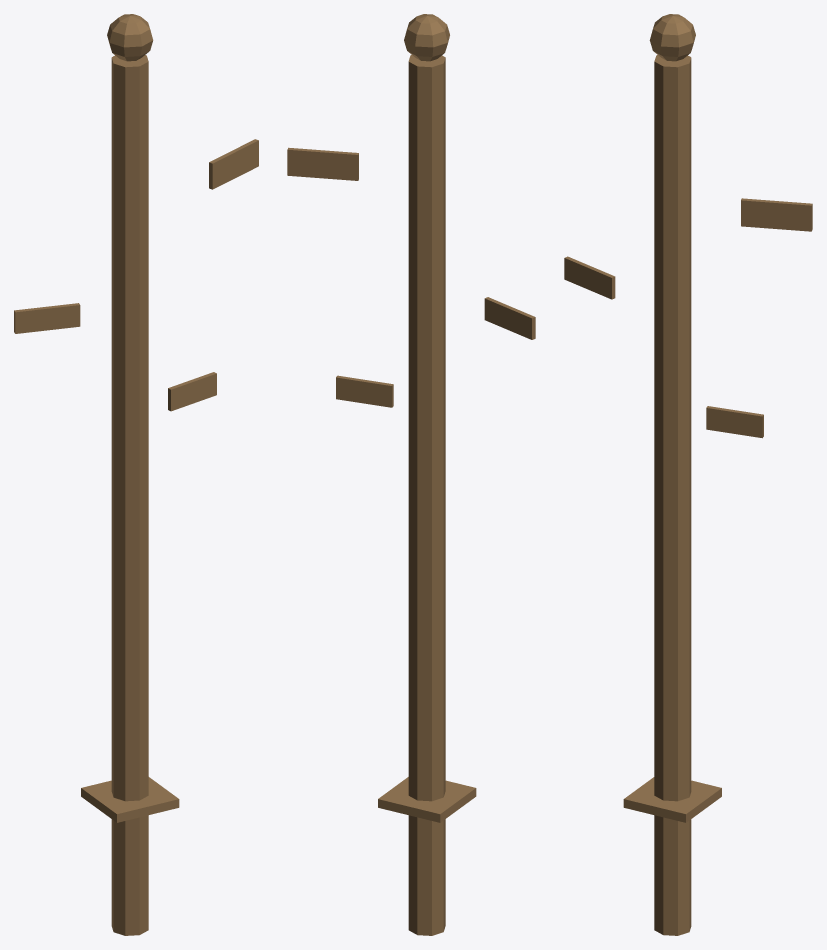
Rendered from sign_post.glb.
3 renders of one model, left to right at view 1: azimuth 30°, elevation 25°; view 2: azimuth 150°, elevation 25°; view 3: azimuth 330°, elevation 25°, orthographic.
Parts seen in each view (by area): view 1: sign_post; view 2: sign_post; view 3: sign_post.
Part boxes in pixels (x1,y1,x2,y2): sign_post: (14,14,258,935); sign_post: (287,14,535,935); sign_post: (564,14,812,935).
Bounding box in the file's own units: 0.5911 × 2.1 × 0.15.
